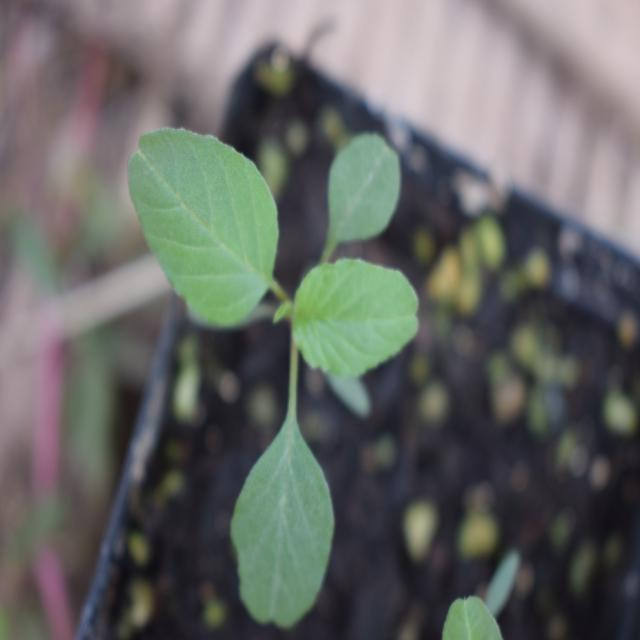pigweed: (103, 111, 414, 628)
